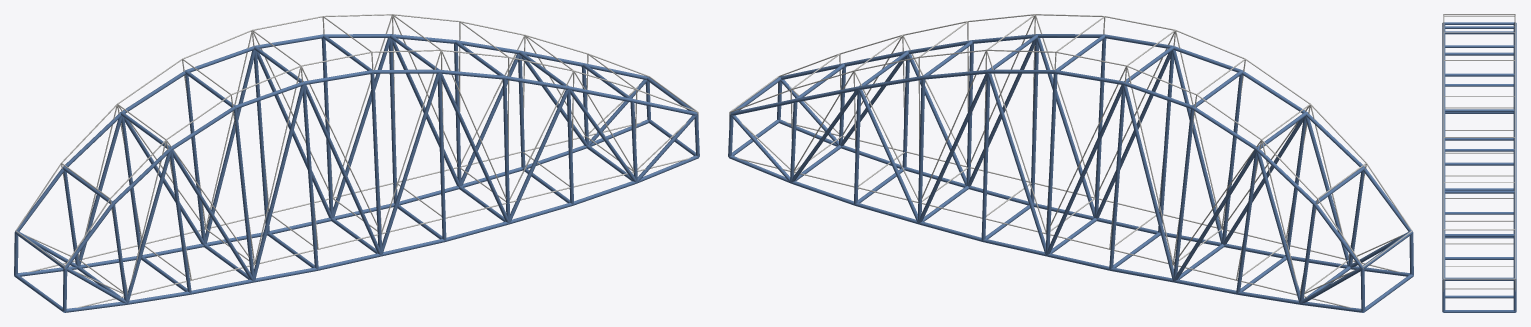
File: bridge-displacement-model.glb
3 views of the same model, side by side, from view 1: azimuth 30°, elevation 25°; view 2: azimuth 150°, elevation 25°; view 3: azimuth 270°, elevation 25° (orthographic). The views are drawn at different scales.
Visible parts, largest first — view 1: Deformed/M013, Deformed/M015, Deformed/M014, Deformed/M024, Deformed/M025, Deformed/M054, Deformed/M023, Deformed/M056, Deformed/M026, Deformed/M065, Deformed/M016, Deformed/M066 (+17 smaller); view 2: Deformed/M054, Deformed/M056, Deformed/M055, Deformed/M065, Deformed/M066, Deformed/M013, Deformed/M064, Deformed/M015, Deformed/M067, Deformed/M024, Deformed/M057, Deformed/M025 (+17 smaller); view 3: Deformed/M098, Deformed/M099, Deformed/M101, Deformed/M085, Deformed/M091, Deformed/M093, Deformed/M094, Deformed/M092, Deformed/M103, Deformed/M102, Deformed/M096, Deformed/M097 (+54 smaller).
Part boxes in pixels (box(x1,y1,x2,y2)): Deformed/M013: box(254, 84, 304, 280); Deformed/M015: box(381, 72, 440, 254); Deformed/M014: box(304, 84, 381, 254); Deformed/M024: box(302, 85, 318, 269); Deformed/M025: box(370, 73, 381, 254); Deformed/M054: box(205, 50, 255, 243); Deformed/M023: box(234, 108, 254, 280); Deformed/M056: box(333, 37, 390, 217); Deformed/M026: box(437, 73, 446, 240); Deformed/M065: box(254, 51, 269, 232); Deformed/M016: box(440, 72, 508, 222); Deformed/M066: box(321, 38, 333, 217); Deformed/M054: box(1123, 84, 1173, 280); Deformed/M056: box(987, 72, 1046, 254); Deformed/M055: box(1046, 84, 1123, 254); Deformed/M065: box(1109, 85, 1125, 269); Deformed/M066: box(1046, 73, 1057, 254); Deformed/M013: box(1172, 50, 1222, 243); Deformed/M064: box(1173, 108, 1193, 280); Deformed/M015: box(1037, 37, 1094, 217); Deformed/M067: box(981, 73, 990, 240); Deformed/M024: box(1158, 51, 1173, 232); Deformed/M057: box(919, 72, 987, 222); Deformed/M025: box(1094, 38, 1106, 217); Deformed/M098: box(1444, 73, 1514, 76); Deformed/M099: box(1444, 109, 1514, 112); Deformed/M101: box(1444, 190, 1514, 193); Deformed/M085: box(1445, 162, 1513, 165); Deformed/M091: box(1445, 295, 1513, 298); Deformed/M093: box(1445, 52, 1513, 55); Deformed/M094: box(1445, 31, 1513, 34); Deformed/M092: box(1443, 310, 1515, 312); Deformed/M103: box(1444, 278, 1514, 280); Deformed/M102: box(1444, 234, 1514, 236); Deformed/M096: box(1444, 26, 1514, 28); Deformed/M097: box(1444, 45, 1514, 47).
Size of the model in its own units: 30.16 by 9.58 by 4.16.
